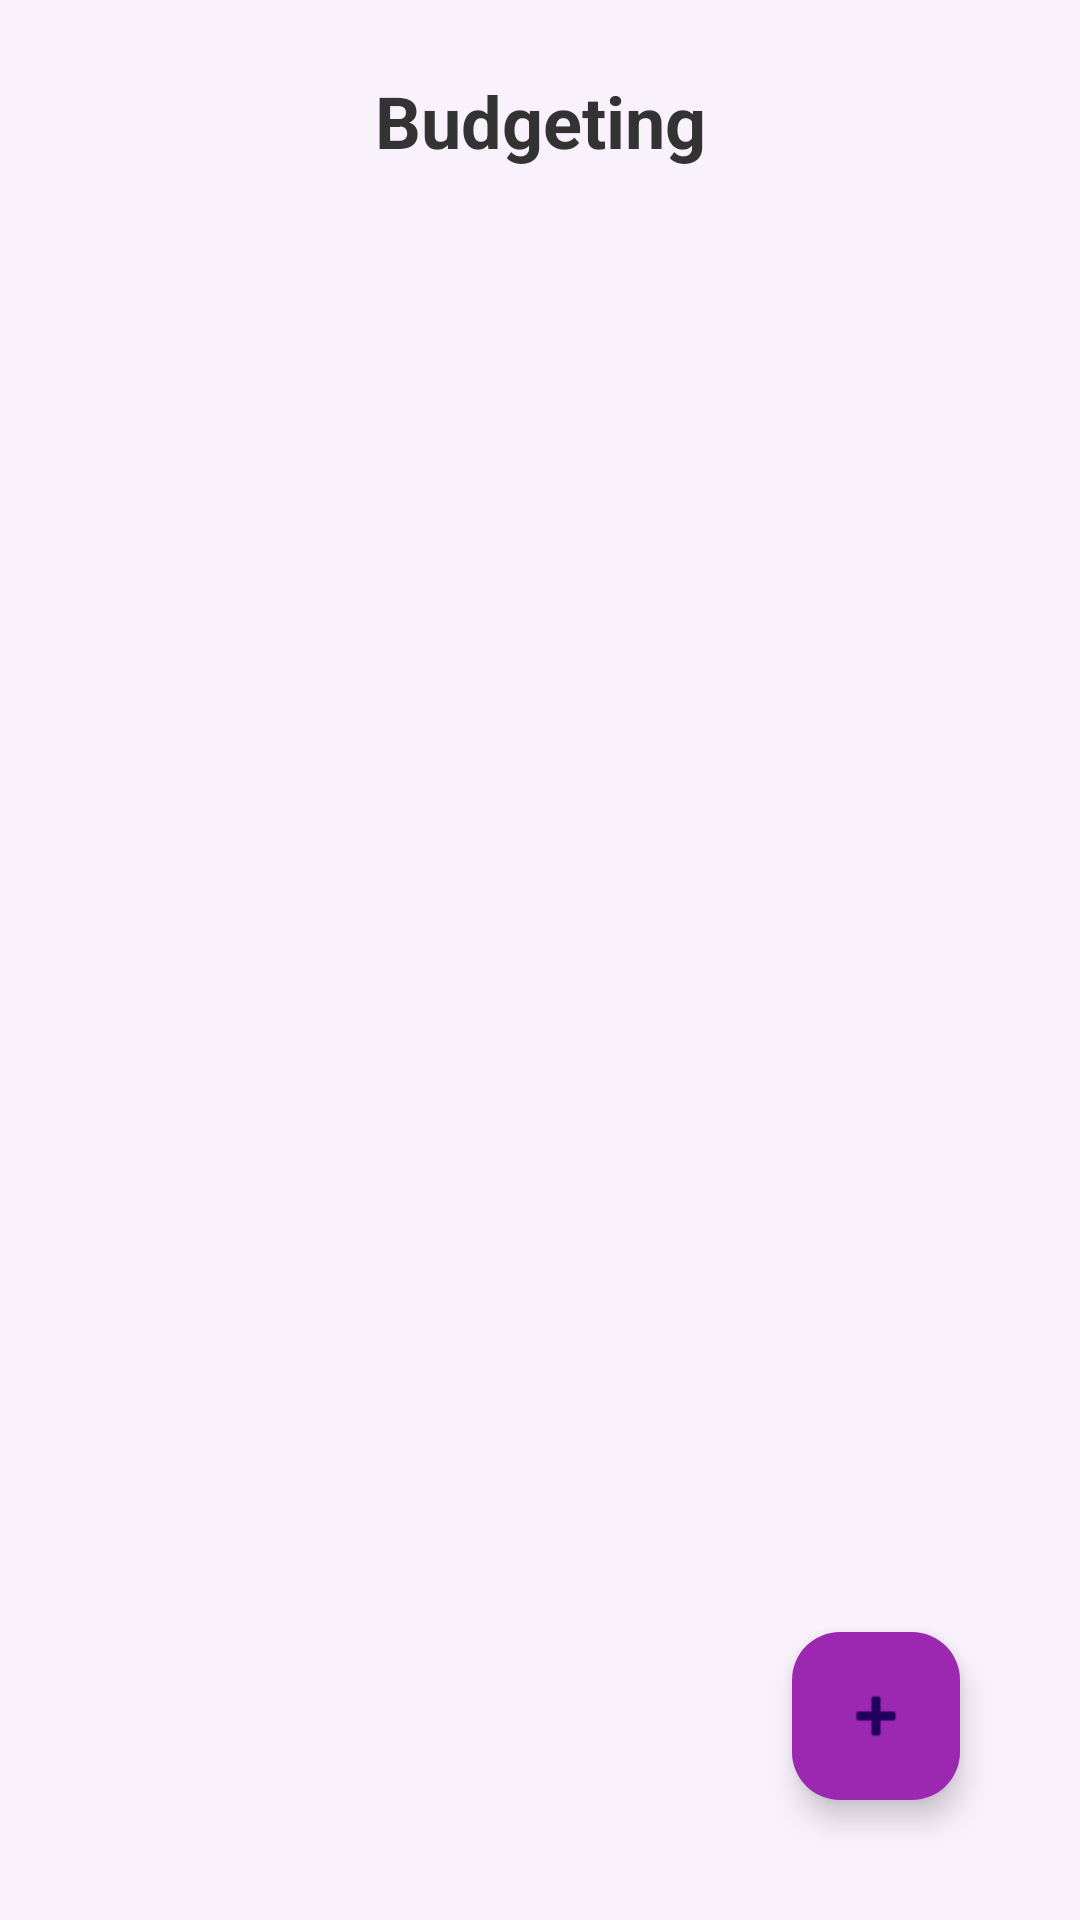

Named icons in this screenshot (1080*1920) and their bounding boxes, [x1=x1, y1=y1, x2=x2, y2=y2]:
Add Budget: [x1=792, y1=1632, x2=960, y2=1800]
